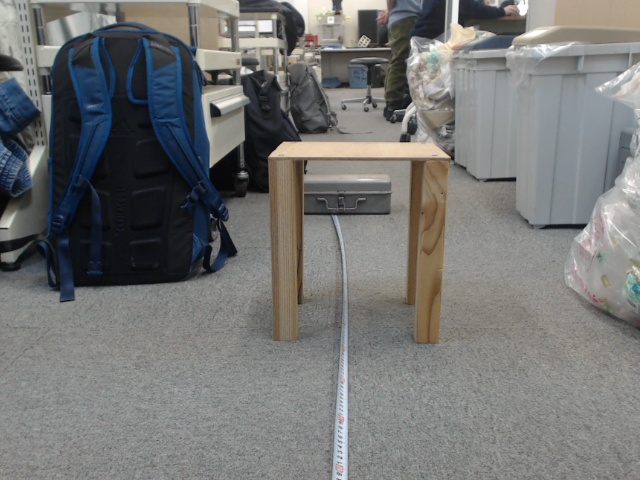desk: (288, 133, 515, 408)
